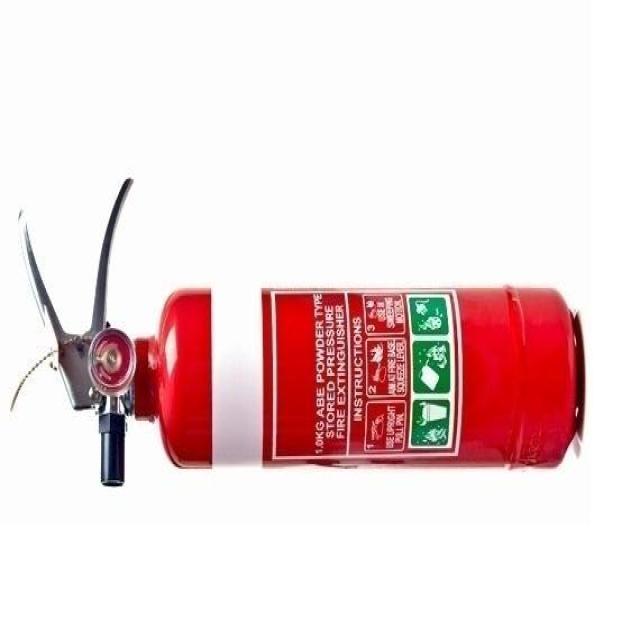fire_extinguisher: (6, 172, 590, 490)
